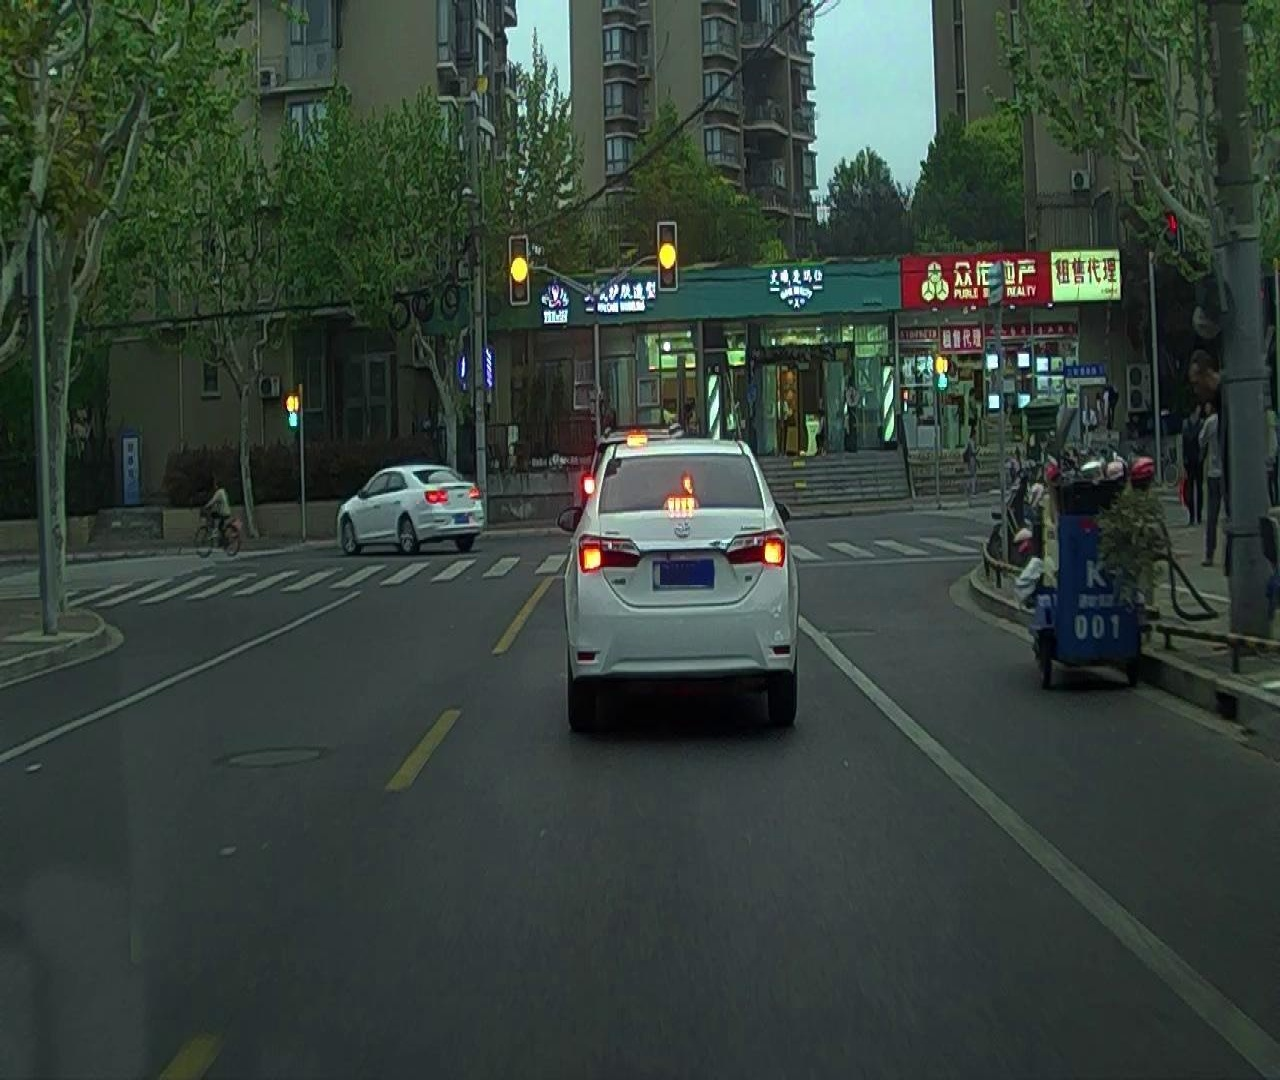yellow: (510, 237, 529, 303), (658, 222, 677, 288)
